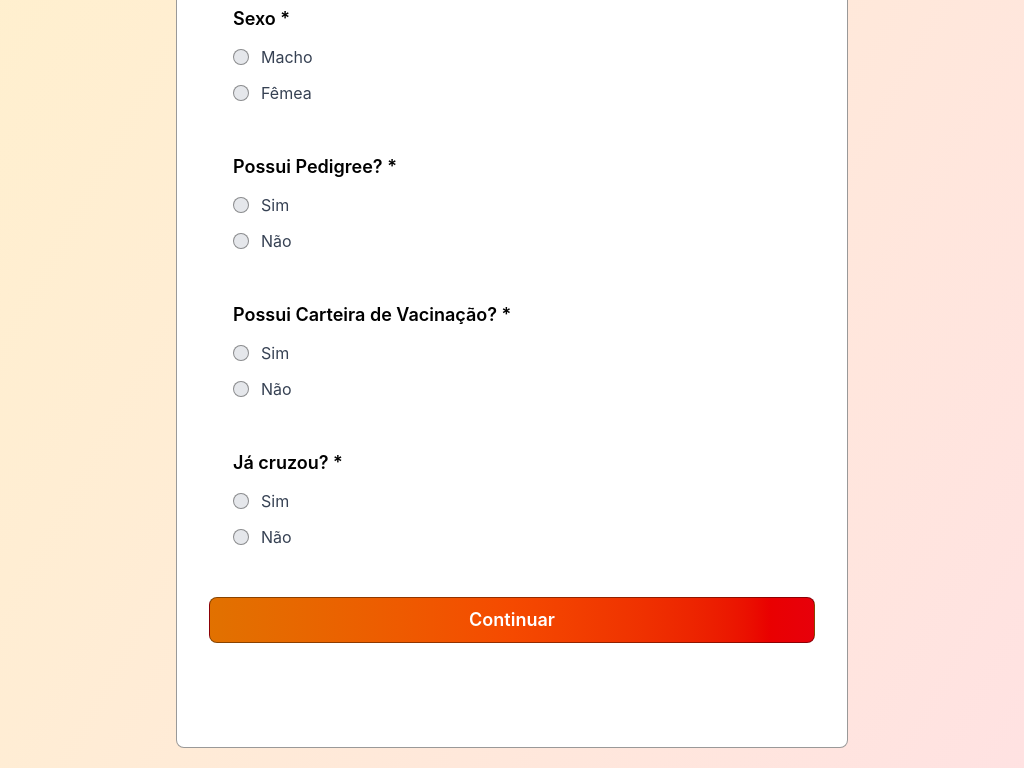
Test: shows error when petPhoto is missing
This screenshot has width=1024, height=768.
(page scrolled)
Click the button "Continuar": (512, 620) [209,597,815,643]
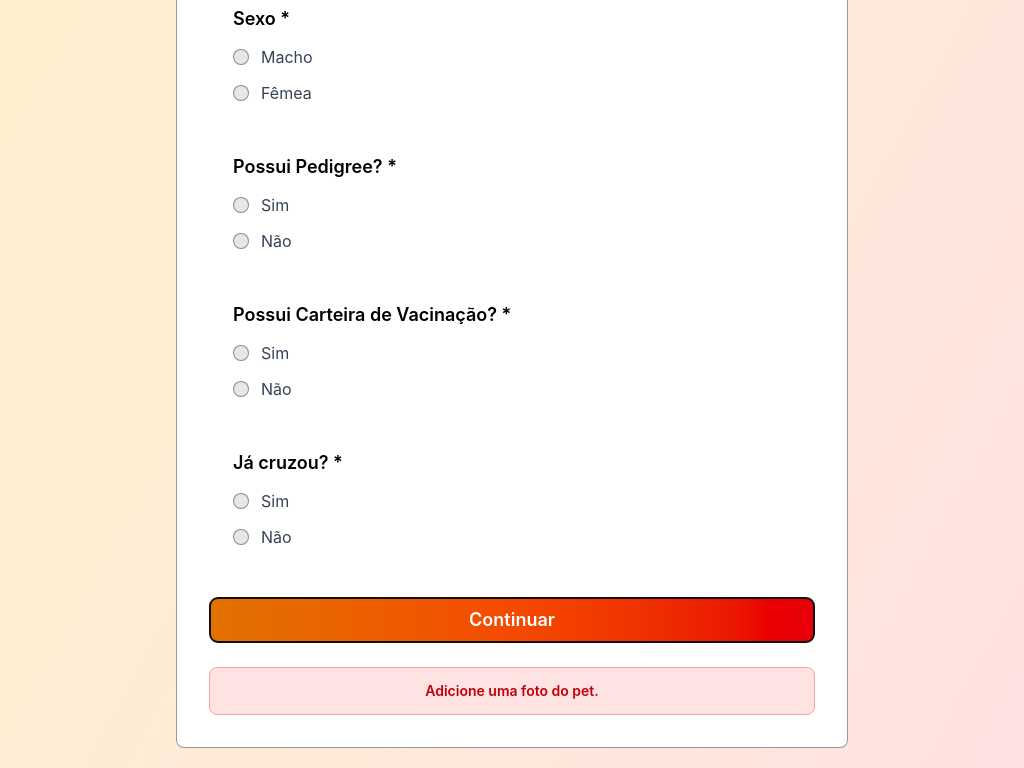
Now the text "Adicione uma foto do pet." is shown, box [209,667,815,715]
